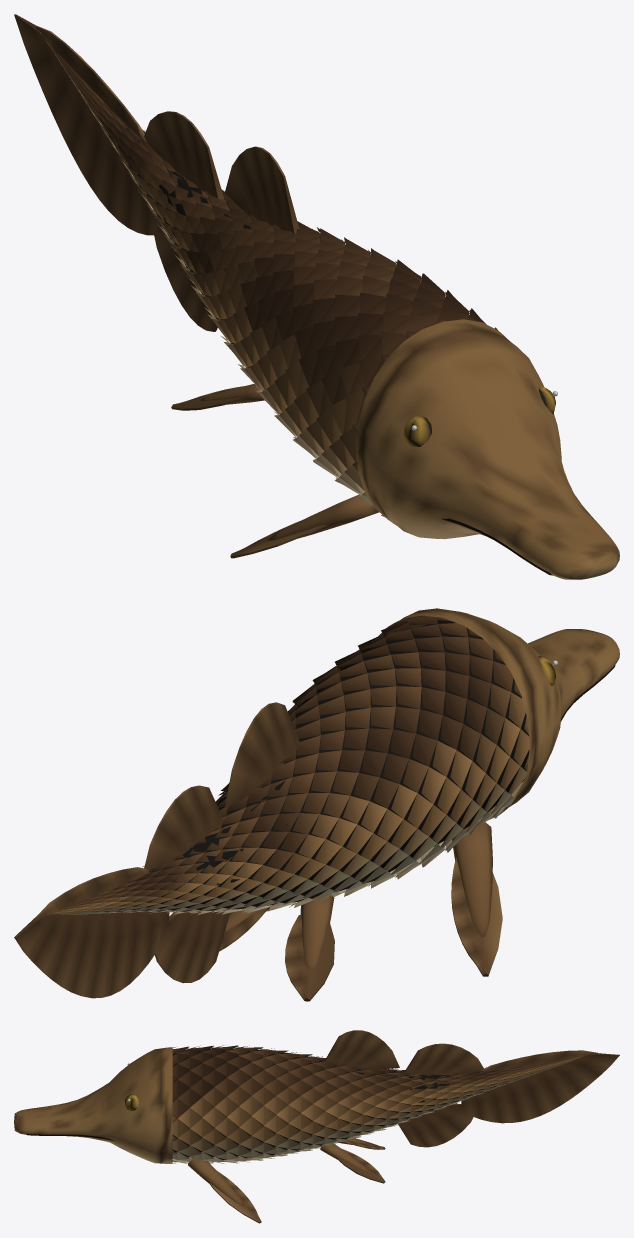
The model's file is Griphognathus.fbx.
3 views of the same model, one above another, from view 1: azimuth 30°, elevation 25°; view 2: azimuth 150°, elevation 25°; view 3: azimuth 270°, elevation 25° (orthographic). The views are drawn at different scales.
Visible parts, largest first — view 1: Griphognathus; view 2: Griphognathus; view 3: Griphognathus.
Part boxes in pixels (x1,y1,x2,y2): Griphognathus: (14, 14, 619, 579); Griphognathus: (14, 608, 619, 1001); Griphognathus: (14, 1030, 619, 1223).
Bounding box in the file's own units: 0.4319 × 0.492 × 1.68.
